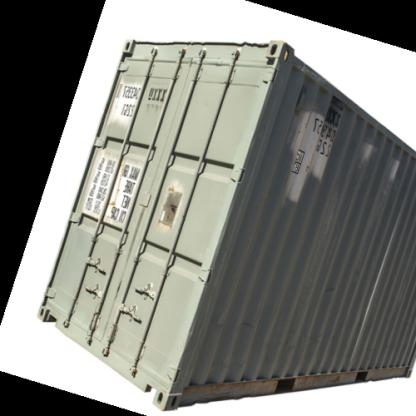Damage: (258, 369, 345, 393)
